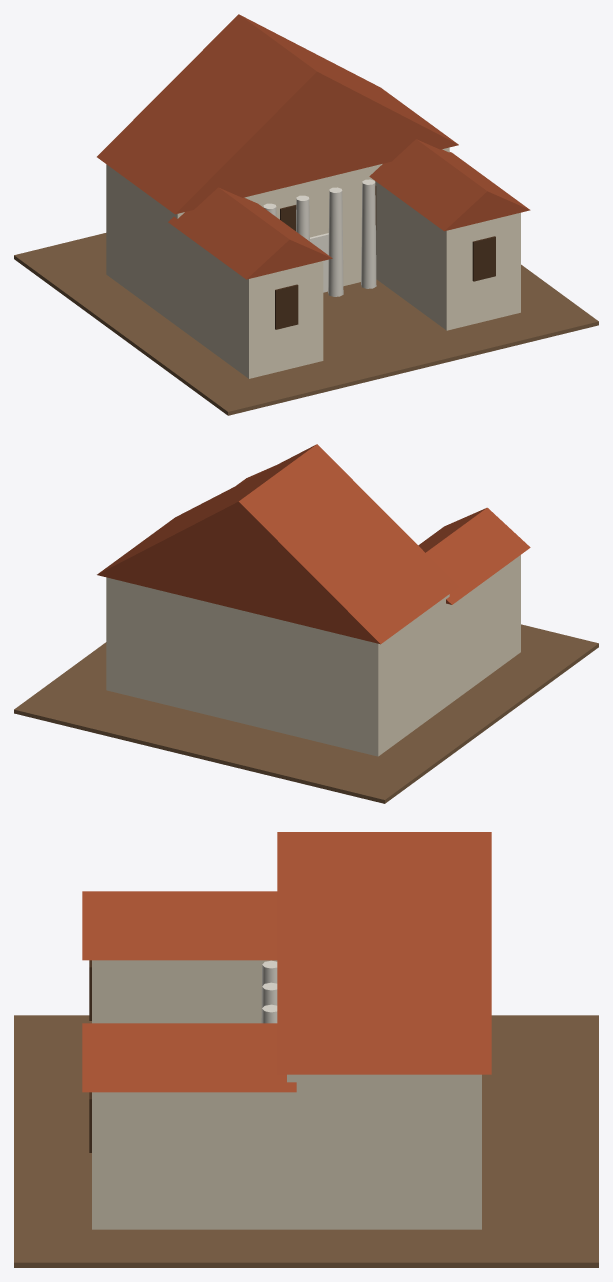
The model's file is bld_special_hospital_a02_lod1.glb.
The picture shows the model from 3 angles, top to bottom: view 1: azimuth 30°, elevation 25°; view 2: azimuth 150°, elevation 25°; view 3: azimuth 270°, elevation 25°; orthographic projection. The views are drawn at different scales.
Parts seen in each view (by area): view 1: body; view 2: body; view 3: body.
Part boxes in pixels (x1,y1,x2,y2): body: (14,14,598,415); body: (14,444,598,803); body: (14,832,598,1267).
Size of the model in its own units: 15 by 8.83 by 15.
